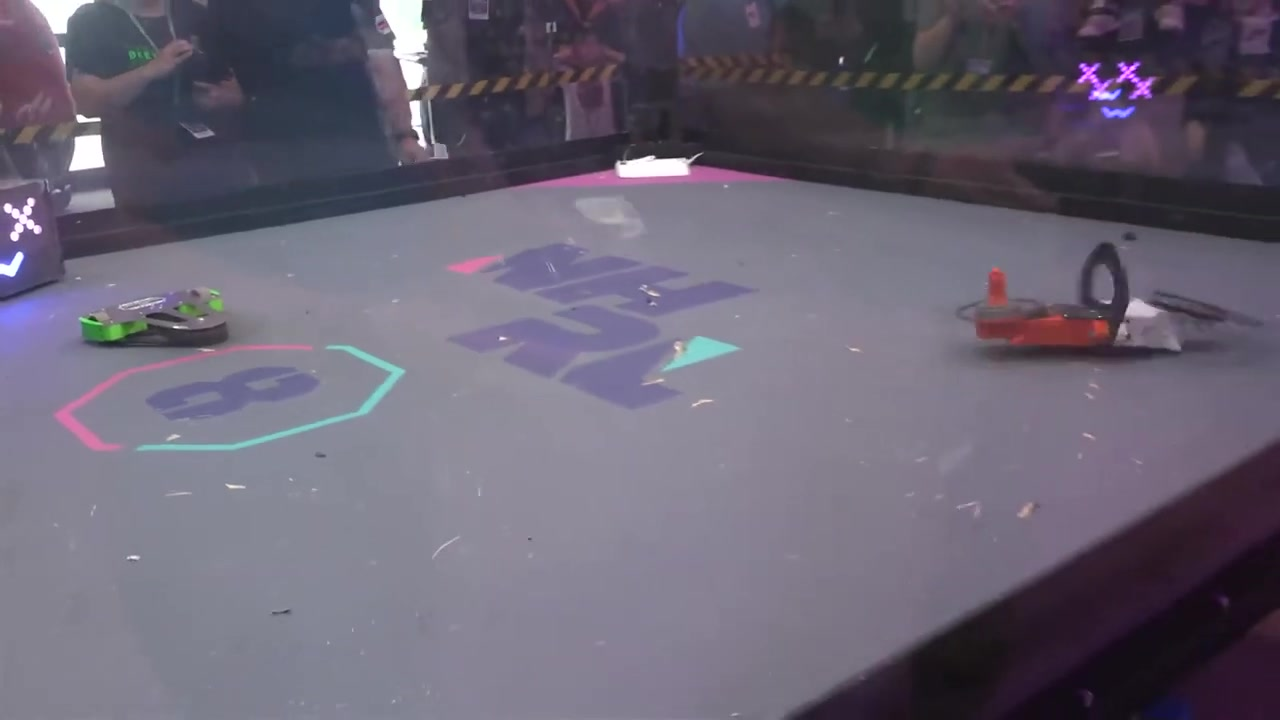combatbot: (974, 288, 1179, 357), (75, 286, 230, 349)
housebot: (0, 178, 63, 315)
minibot: (614, 153, 691, 178)
